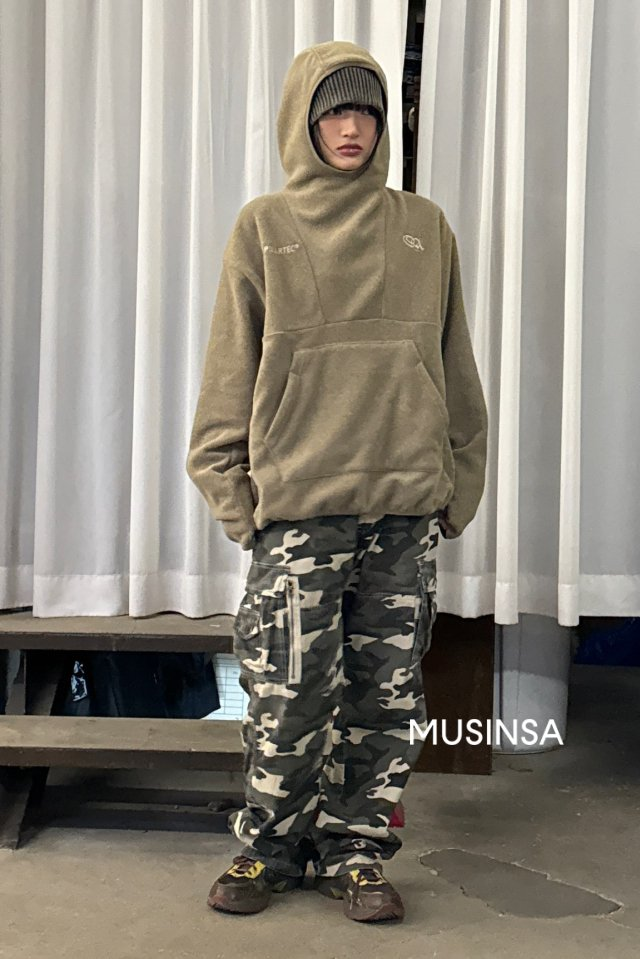Beanie: (297, 61, 386, 122)
Hoodie: (178, 36, 500, 549)
Pants: (226, 507, 444, 885)
Shoes: (198, 840, 412, 932)
